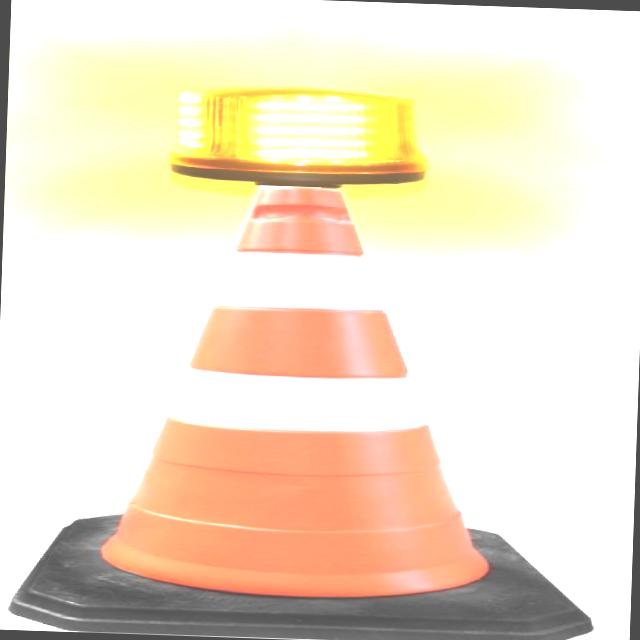cone: (0, 175, 602, 638)
